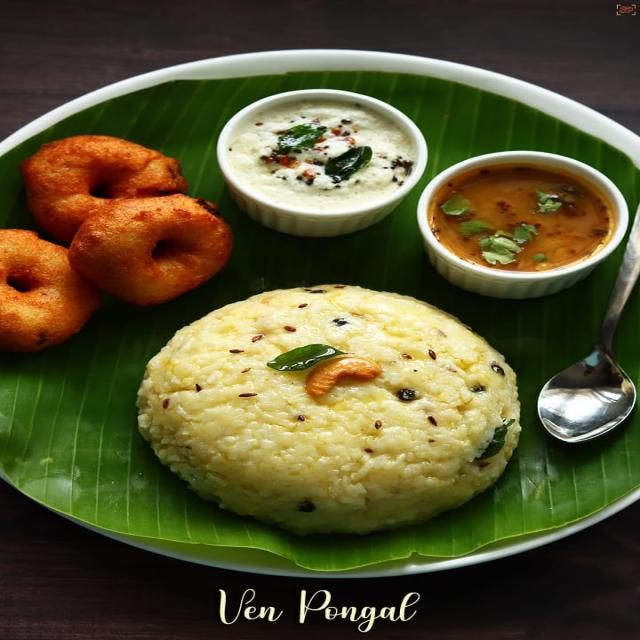khara pongal: (116, 273, 547, 539)
